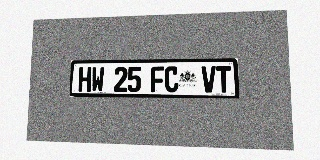2: (114, 67, 127, 92)
5: (128, 67, 141, 92)
C: (165, 66, 178, 92)
F: (151, 66, 164, 92)
H: (78, 67, 91, 92)
T: (216, 66, 231, 93)
V: (201, 66, 216, 92)
W: (91, 67, 104, 92)
